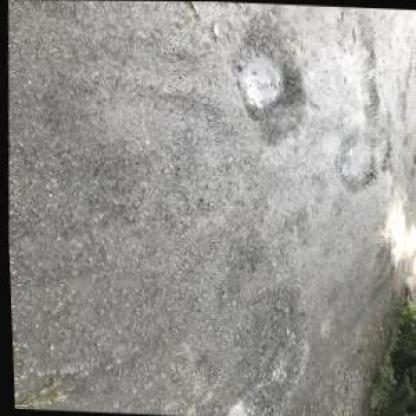pothole: (224, 26, 308, 142), (335, 125, 382, 197), (332, 11, 378, 72), (358, 78, 381, 122)
